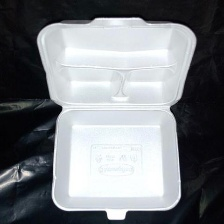foam_box: (27, 11, 203, 224)
